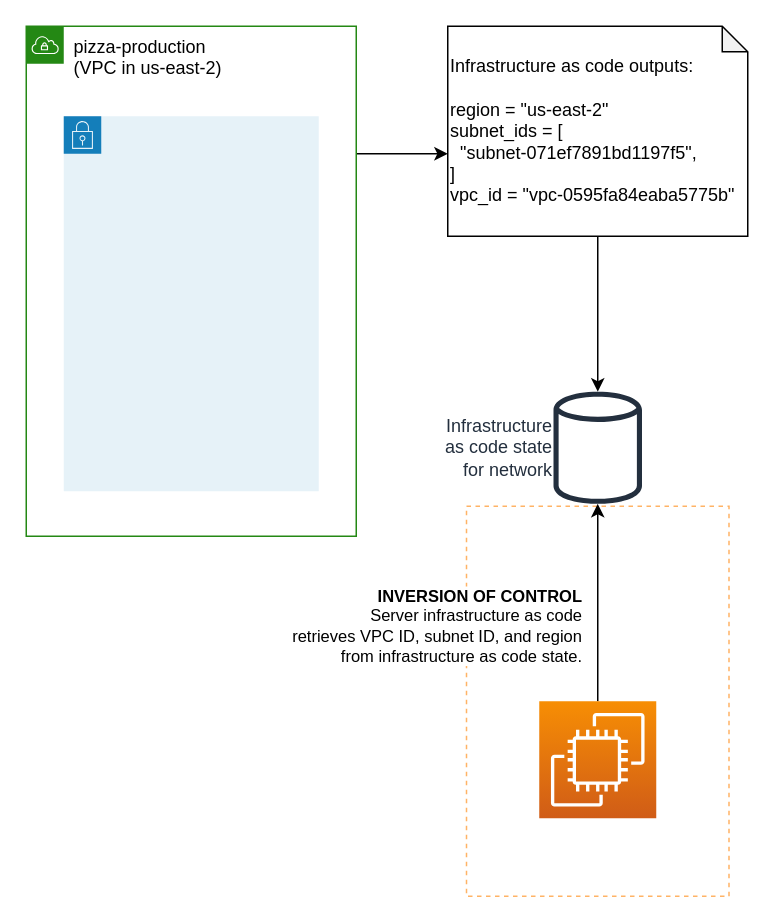
Some shapes in this 774 by 923 pixel diagram are drawn without their labels. Here are the shapes that lost their labels. From the top down, the box of each, then its label:
(62, 115, 319, 491): pizza-production (private subnetwork)
(538, 700, 656, 818): pizza-production-ingredients (server)
